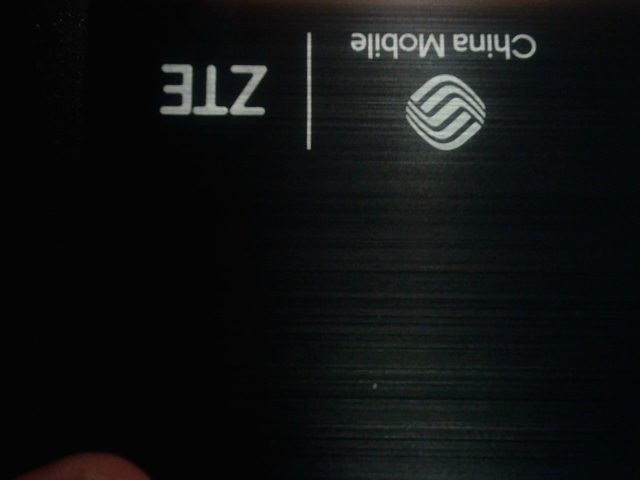AL_ZTEChinaMobile: (128, 17, 542, 166)
